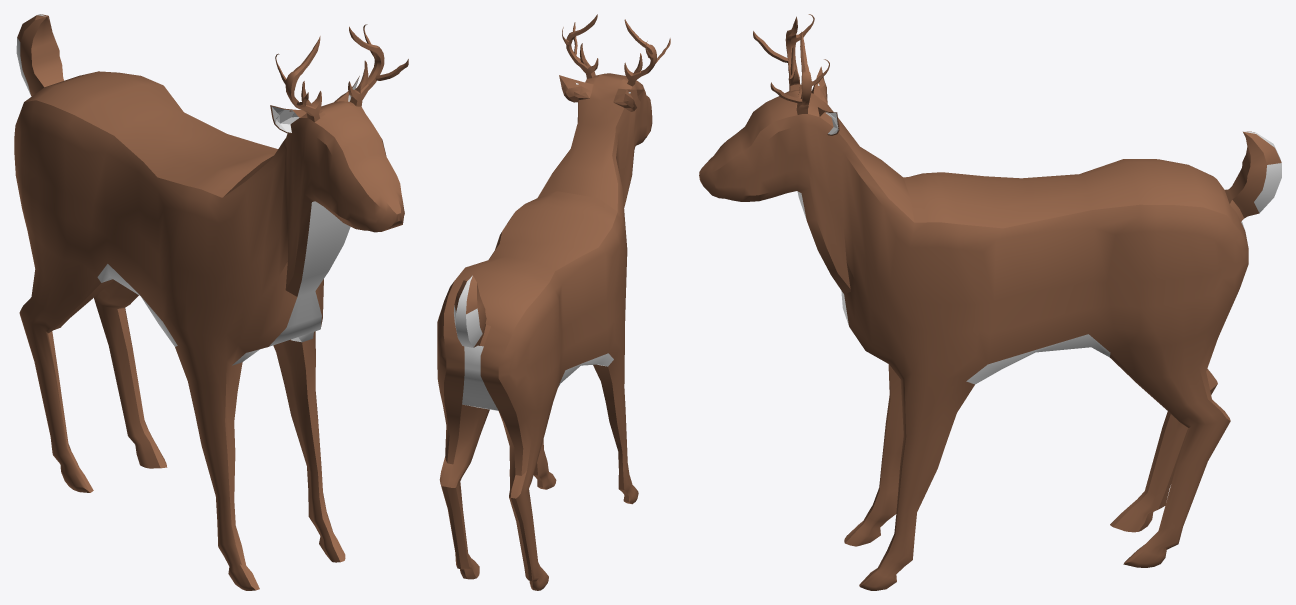
The model's file is Biche.fbx.
The picture shows the model from 3 angles, left to right: view 1: azimuth 30°, elevation 25°; view 2: azimuth 150°, elevation 25°; view 3: azimuth 270°, elevation 25°; orthographic projection. The views are drawn at different scales.
Visible parts, largest first — view 1: Plane; view 2: Plane; view 3: Plane.
Part boxes in pixels (bbox=[...]): Plane: bbox=[14, 14, 408, 590]; Plane: bbox=[437, 14, 670, 590]; Plane: bbox=[699, 14, 1281, 590].
Bounding box in the file's own units: 59.54 × 192 × 186.
